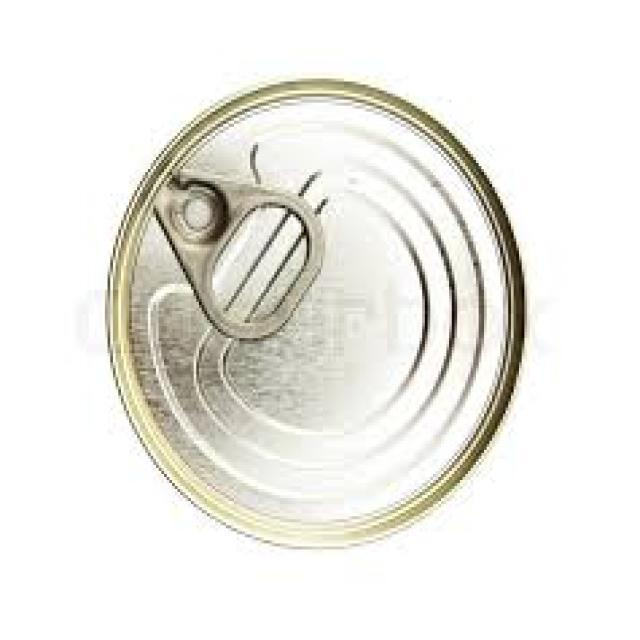metal-can: (105, 72, 522, 550)
